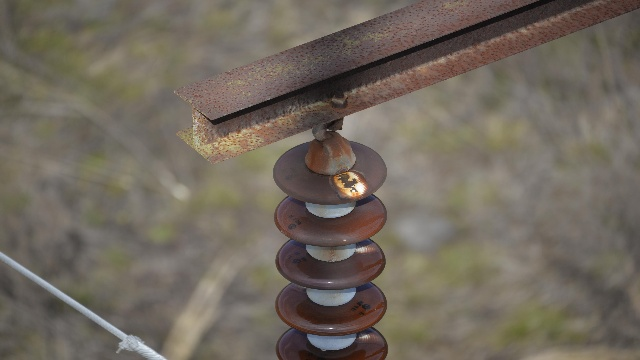insulator_unspecified: (270, 137, 388, 359)
pollution_flashover_local: (328, 167, 368, 199), (356, 331, 387, 348), (356, 242, 380, 254)
